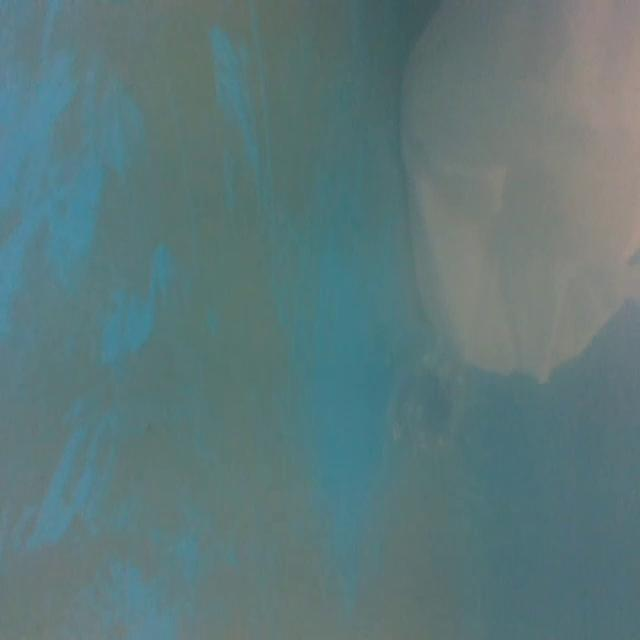plastic bags: (392, 6, 640, 386)
